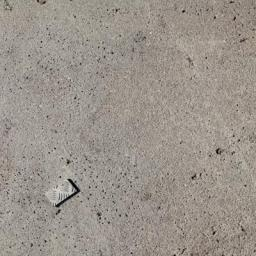FOD: (43, 173, 86, 217)
